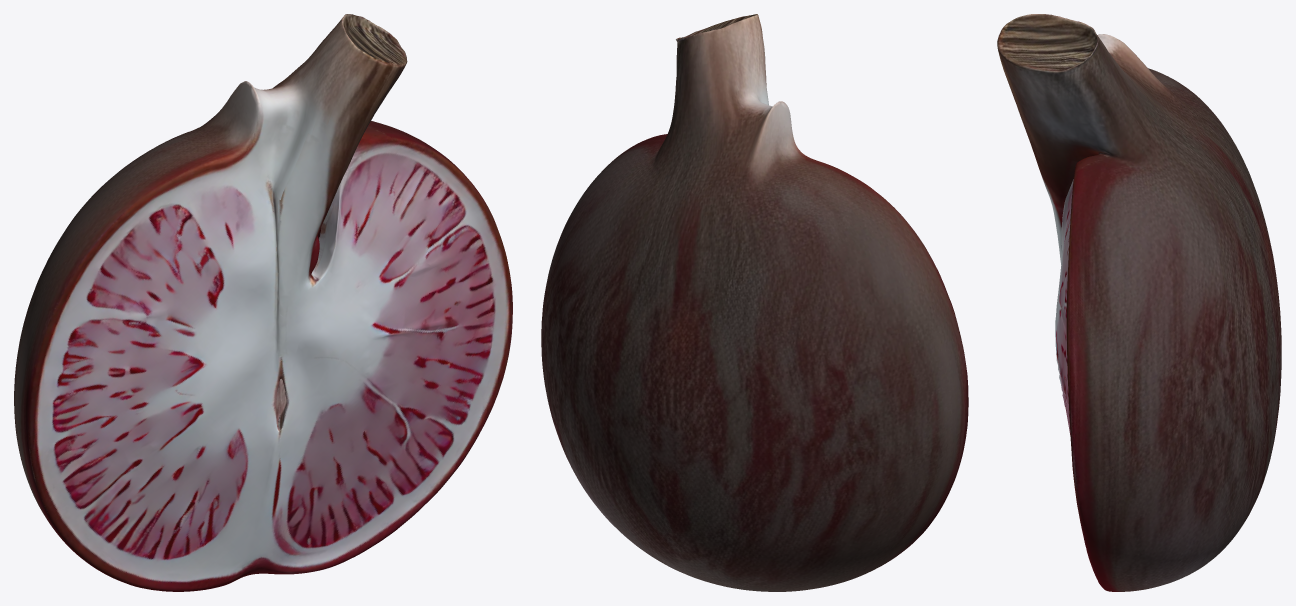
File: vet_v2_organ_horse_spleen.glb
The picture shows the model from 3 angles, left to right: view 1: azimuth 30°, elevation 25°; view 2: azimuth 150°, elevation 25°; view 3: azimuth 270°, elevation 25°; orthographic projection. The views are drawn at different scales.
Visible parts, largest first — view 1: model; view 2: model; view 3: model.
Part boxes in pixels (box(x1,y1,x2,y2)): model: box(14, 14, 512, 591); model: box(541, 14, 968, 591); model: box(997, 14, 1281, 591).
Size of the model in its own units: 1.63 by 1.9 by 0.863.
Materials: 1 (1 with a texture image).
